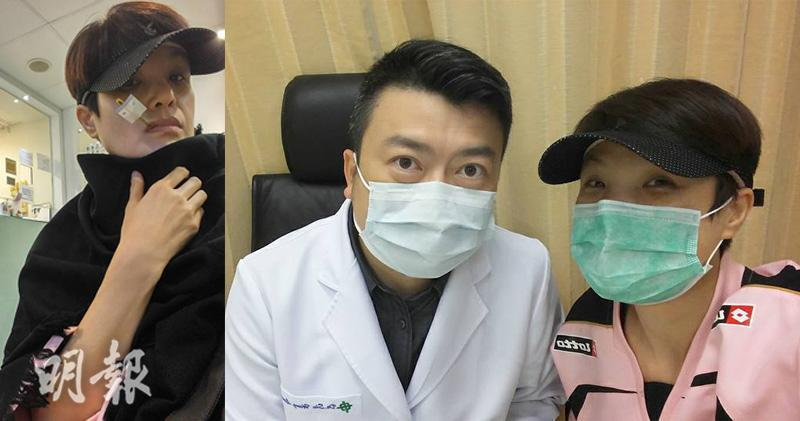mask: (569, 199, 716, 305), (358, 180, 500, 279)
